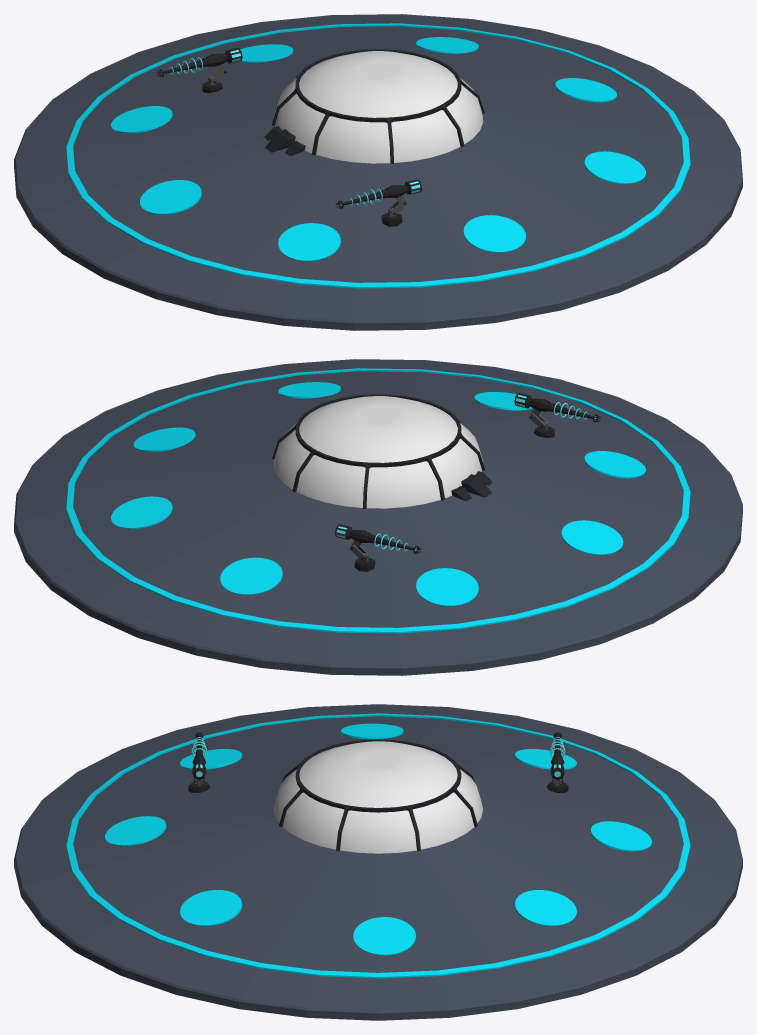
The model's file is UFO3 1.fbx.
3 renders of one model, top to bottom at view 1: azimuth 30°, elevation 25°; view 2: azimuth 150°, elevation 25°; view 3: azimuth 270°, elevation 25°, orthographic.
Visible parts, largest first — view 1: UFO, outside lights, Window, Window frame, laser gauche, laser droit; view 2: UFO, outside lights, Window, Window frame, laser droit, laser gauche; view 3: UFO, outside lights, Window, Window frame, laser gauche, laser droit.
Boxes of the visible parts, x1=… form: UFO: x1=14, y1=14, x2=742, y2=330; outside lights: x1=66, y1=23, x2=690, y2=288; Window: x1=273, y1=51, x2=483, y2=163; Window frame: x1=272, y1=49, x2=484, y2=163; laser gauche: x1=335, y1=179, x2=421, y2=226; laser droit: x1=156, y1=48, x2=242, y2=92; UFO: x1=14, y1=359, x2=742, y2=675; outside lights: x1=66, y1=368, x2=690, y2=633; Window: x1=273, y1=396, x2=483, y2=508; Window frame: x1=272, y1=394, x2=484, y2=508; laser droit: x1=335, y1=524, x2=421, y2=571; laser gauche: x1=514, y1=393, x2=600, y2=437; UFO: x1=14, y1=704, x2=742, y2=1020; outside lights: x1=66, y1=713, x2=690, y2=978; Window: x1=273, y1=741, x2=483, y2=853; Window frame: x1=279, y1=739, x2=477, y2=851; laser gauche: x1=188, y1=732, x2=209, y2=792; laser droit: x1=547, y1=732, x2=568, y2=792.
Size of the model in its own units: 10671 by 1715 by 10671.
